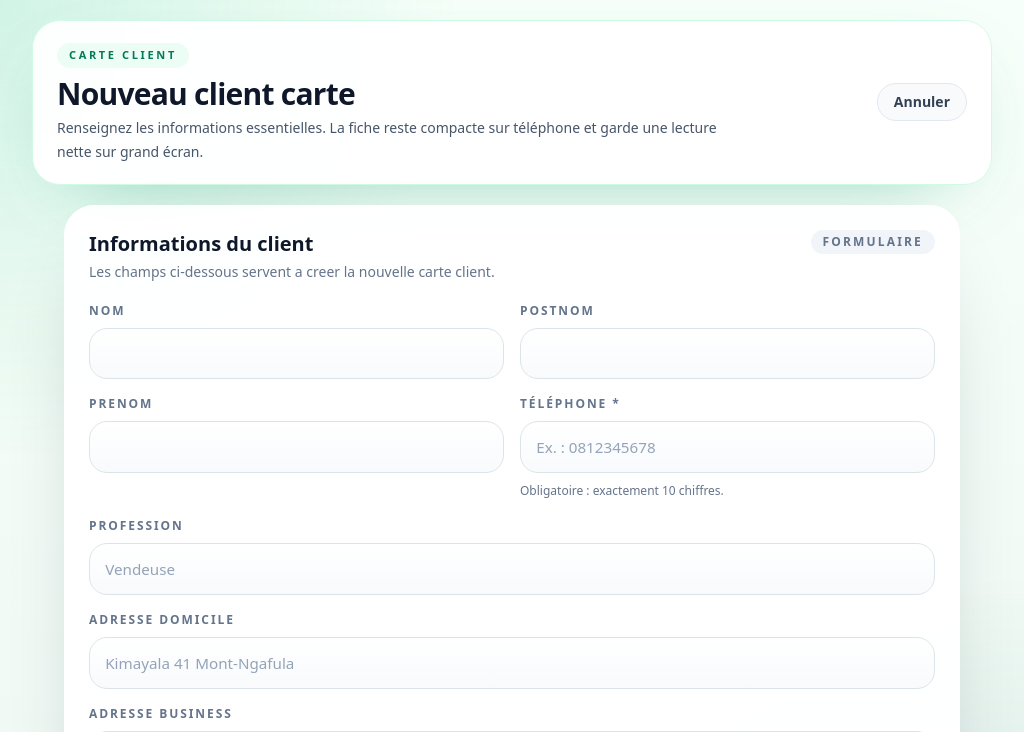
Test: NewCardComponent › updates the missing digit count as the user types and clears the error at 10 digits
Step 1. Type "081" into the field labelled "Téléphone * Obligatoire : exactement 10 chiffres." → (728, 448), box [520, 422, 935, 474]
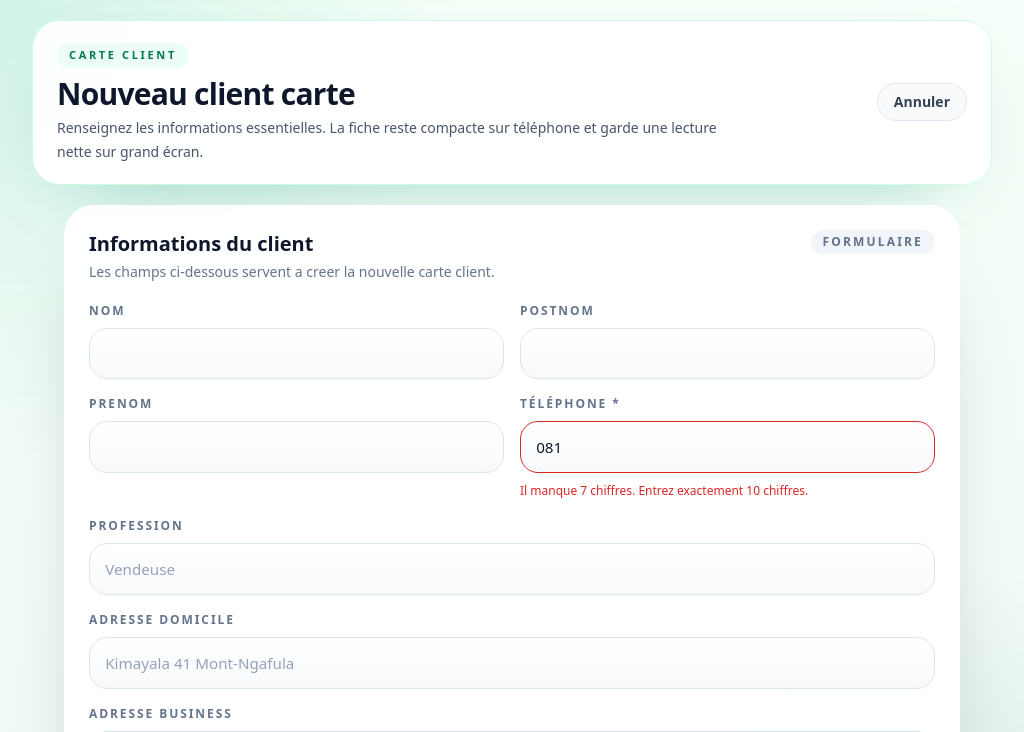
Expected: the text "Il manque 7 chiffres. Entrez exactement 10 chiffres." is shown, [520, 482, 808, 499]
Step 2. Replace the text in the 4th field with "081234567" → (728, 448), box [520, 422, 935, 474]
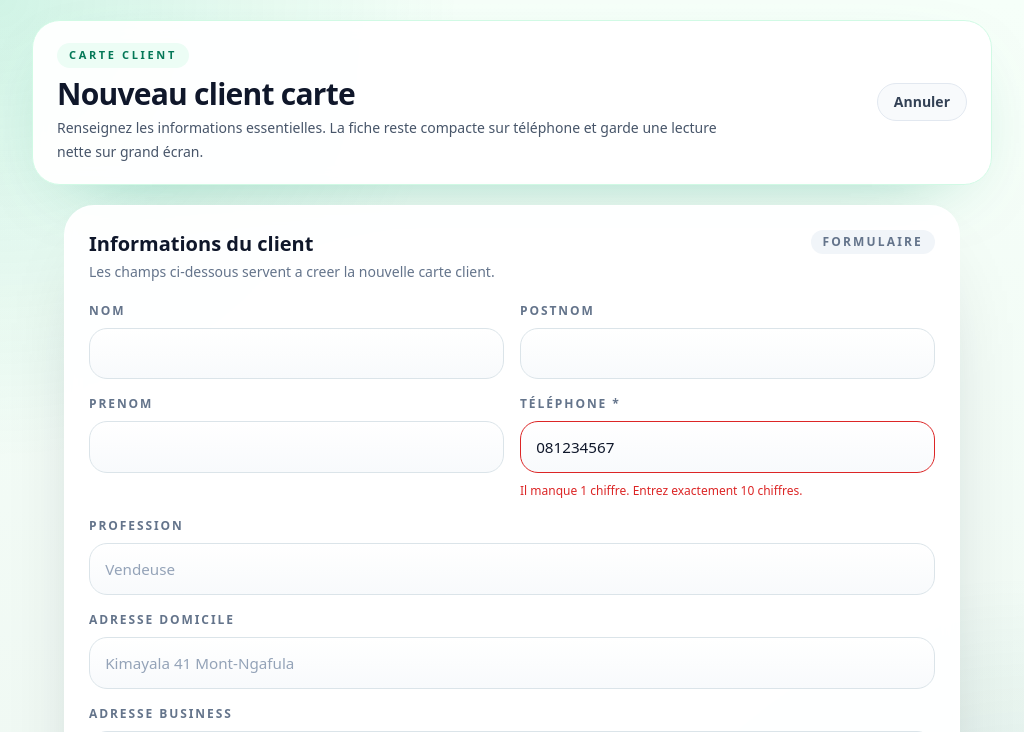
Expected: the text "Il manque 1 chiffre. Entrez exactement 10 chiffres." is shown, [520, 482, 802, 499]
Step 3. Replace the text in the 4th field with "0812345678" → (728, 448), box [520, 422, 935, 474]
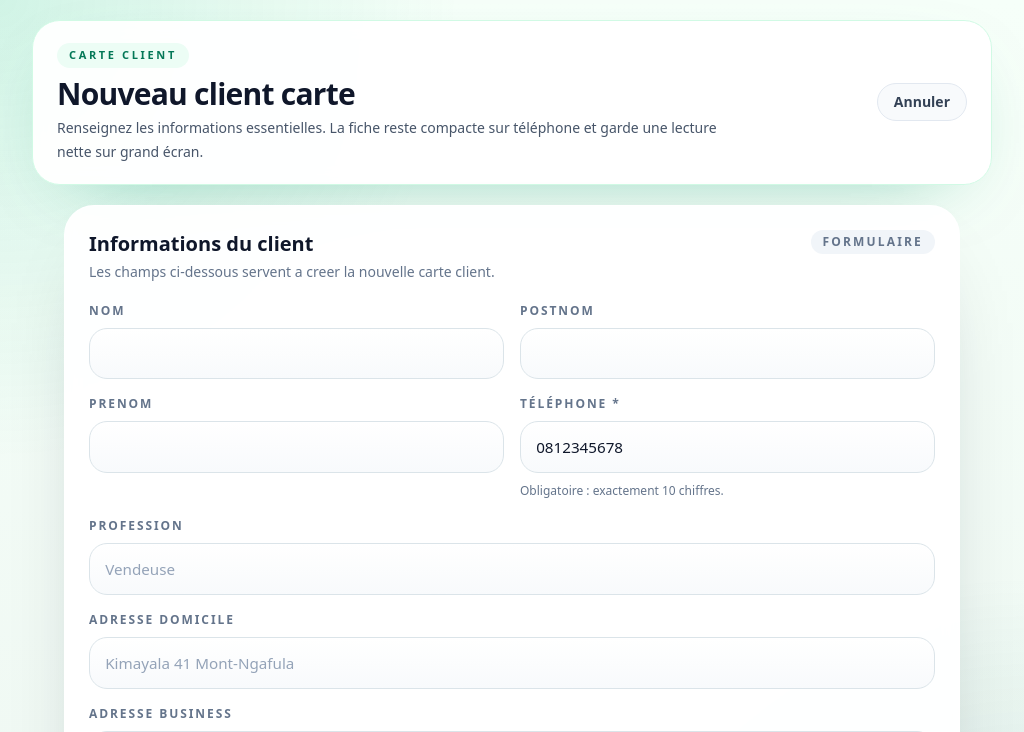
Expected: the text "Obligatoire : exactement 10 chiffres." is shown, [520, 482, 724, 499]
